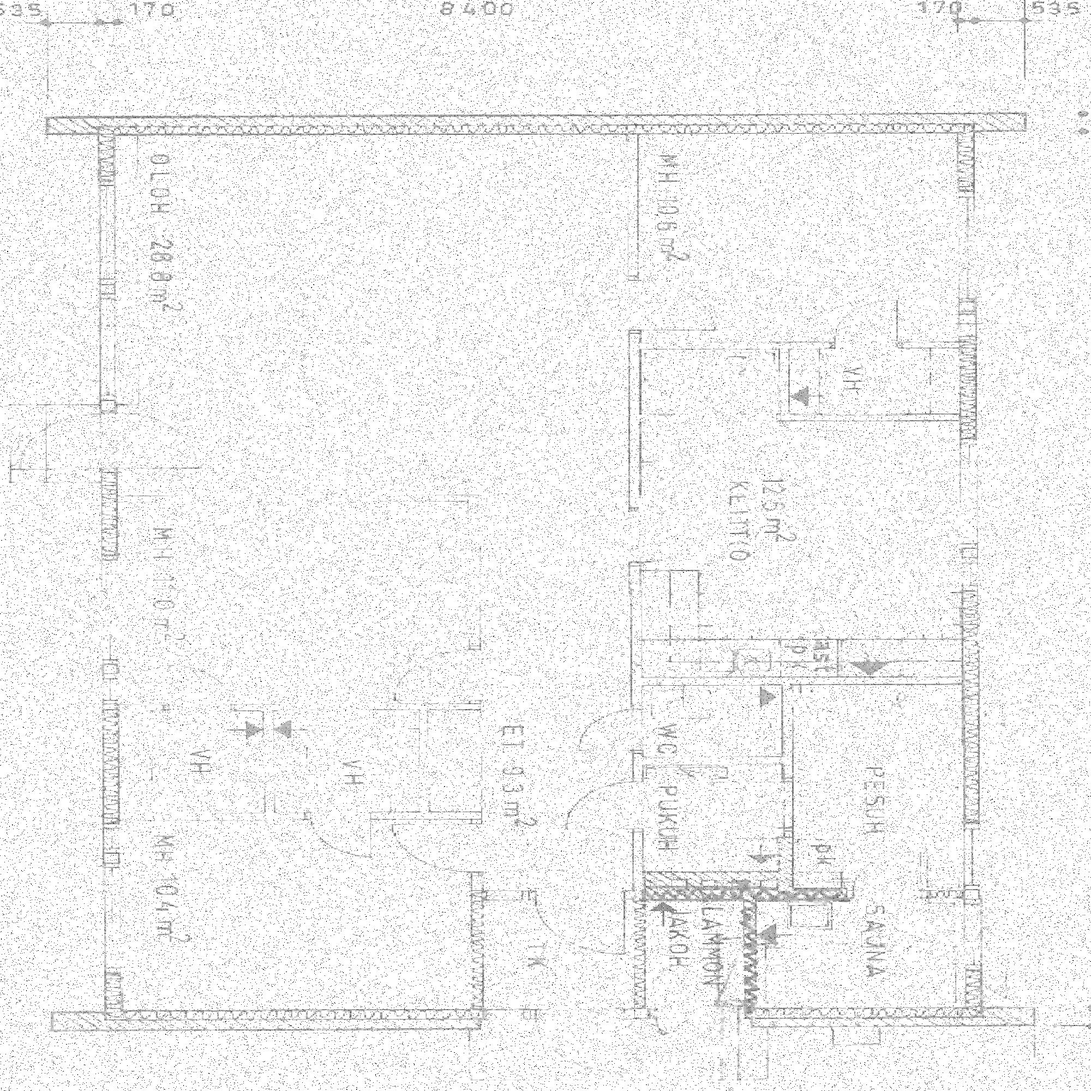wall: (97, 114, 975, 135), (957, 114, 975, 1028), (98, 114, 114, 1028), (631, 114, 642, 1019), (97, 1010, 484, 1028), (642, 870, 792, 901), (747, 1010, 975, 1028), (97, 813, 484, 821), (97, 494, 484, 502), (630, 342, 975, 350), (98, 703, 430, 711), (472, 494, 484, 711), (630, 677, 975, 684), (472, 812, 484, 1010), (484, 1010, 747, 1019), (781, 677, 792, 837), (471, 892, 642, 901), (747, 901, 761, 1010), (631, 757, 792, 766), (418, 703, 430, 821), (779, 415, 975, 422), (845, 889, 976, 899), (264, 703, 275, 821), (48, 114, 98, 135), (48, 1007, 98, 1028), (976, 114, 1025, 135), (976, 1007, 1025, 1028), (776, 837, 792, 901), (779, 342, 791, 422), (792, 888, 845, 901), (431, 703, 484, 711)
